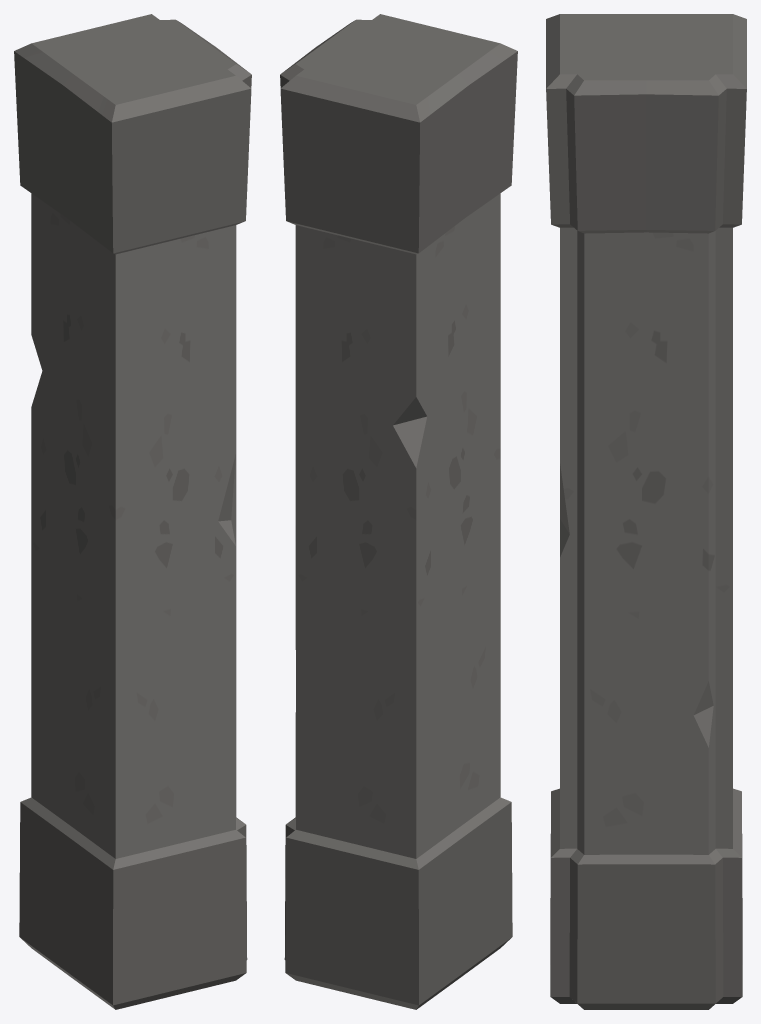
Rendered from SM_Bld_Tunnel_Straight_Pillar_01.fbx.
The picture shows the model from 3 angles, left to right: view 1: azimuth 30°, elevation 25°; view 2: azimuth 150°, elevation 25°; view 3: azimuth 270°, elevation 25°; orthographic projection. The views are drawn at different scales.
Visible parts, largest first — view 1: SM_Bld_Tunnel_Straight_Pillar_01; view 2: SM_Bld_Tunnel_Straight_Pillar_01; view 3: SM_Bld_Tunnel_Straight_Pillar_01.
Boxes of the visible parts, x1,y1,x2,y2 form: SM_Bld_Tunnel_Straight_Pillar_01: [14, 14, 251, 1009]; SM_Bld_Tunnel_Straight_Pillar_01: [280, 14, 517, 1009]; SM_Bld_Tunnel_Straight_Pillar_01: [546, 14, 746, 1009].
Bounding box in the file's own units: 53.37 × 300 × 58.76.
